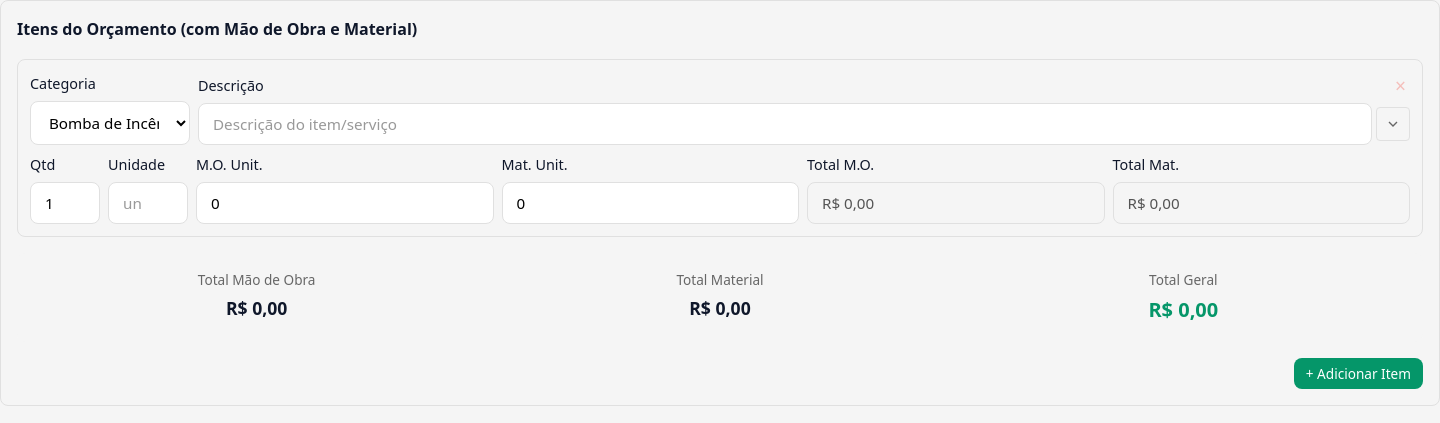
Test case: ItensCompleto › Dropdown de itens pré-definidos › deve abrir dropdown ao clicar no botão
This screenshot has width=1440, height=423.
Click the button titled "Ver itens pré-definidos" at [1393, 124], box [1376,107,1410,141]
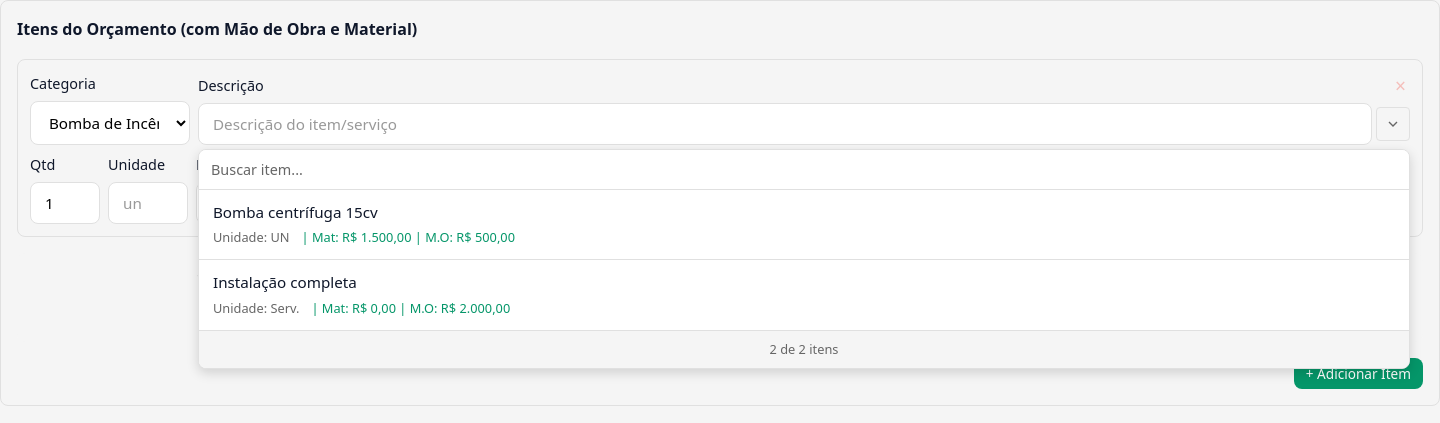
Expected: the text "Bomba centrífuga 15cv" is shown, [213,202,378,222]
